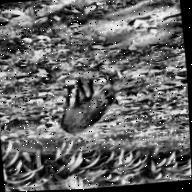boar: (56, 79, 130, 144)
